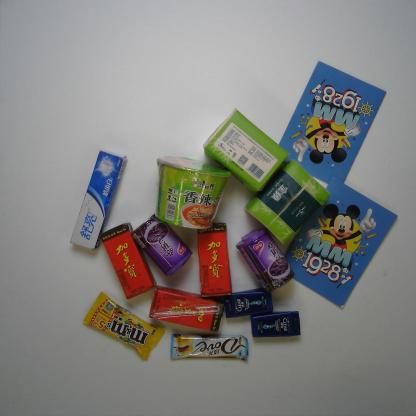Canned Food: (131, 212, 193, 277), (236, 228, 295, 294)
Chocolate: (82, 290, 166, 361), (168, 332, 249, 362)
Drink: (99, 221, 157, 300), (148, 284, 226, 333), (195, 222, 232, 298)
Instant Noodles: (155, 154, 233, 231)
Personal Hygiene: (70, 150, 127, 250), (224, 287, 274, 318), (250, 309, 302, 338)
Stationery: (282, 175, 399, 311), (277, 59, 388, 186)
Tissue: (201, 107, 292, 195), (244, 158, 332, 246)
